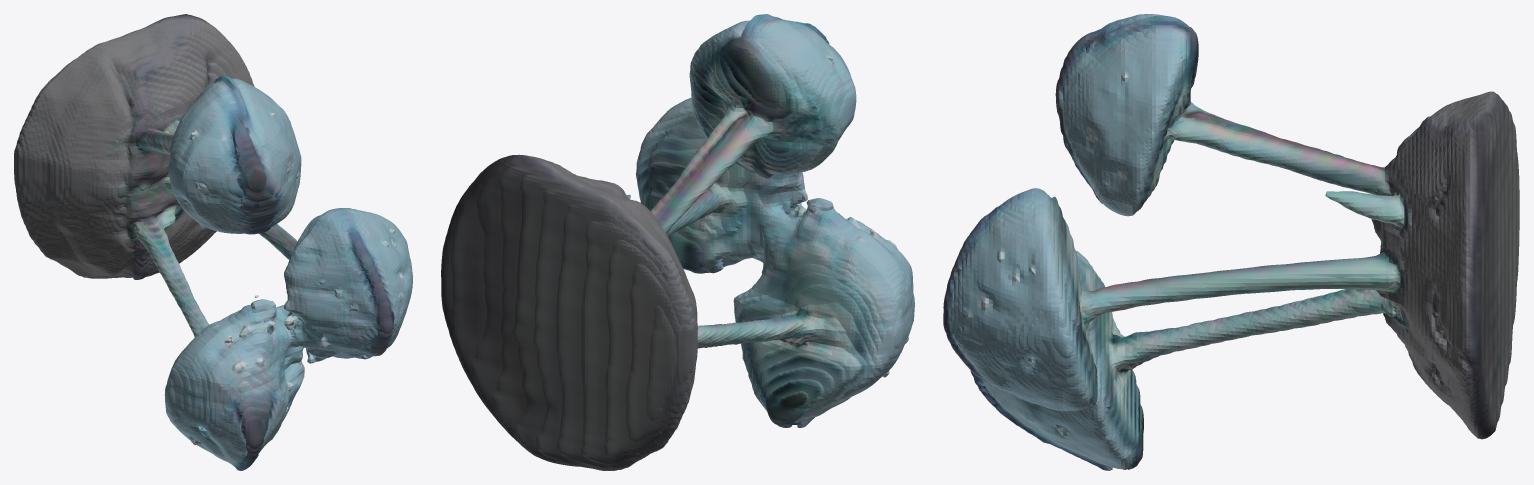
The model's file is triposr_alien_mushroom.glb.
3 views of the same model, side by side, from view 1: azimuth 30°, elevation 25°; view 2: azimuth 150°, elevation 25°; view 3: azimuth 270°, elevation 25° (orthographic). The views are drawn at different scales.
Visible parts, largest first — view 1: geometry_0; view 2: geometry_0; view 3: geometry_0.
Part boxes in pixels (x1=…): geometry_0: x1=14, y1=14, x2=412, y2=470; geometry_0: x1=441, y1=14, x2=914, y2=470; geometry_0: x1=943, y1=14, x2=1519, y2=470.
Size of the model in its own units: 0.632 by 0.9033 by 1.01.
